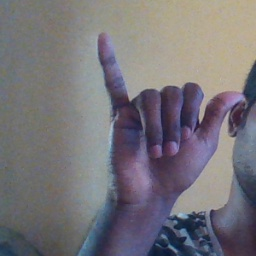J: (93, 29, 247, 198)
